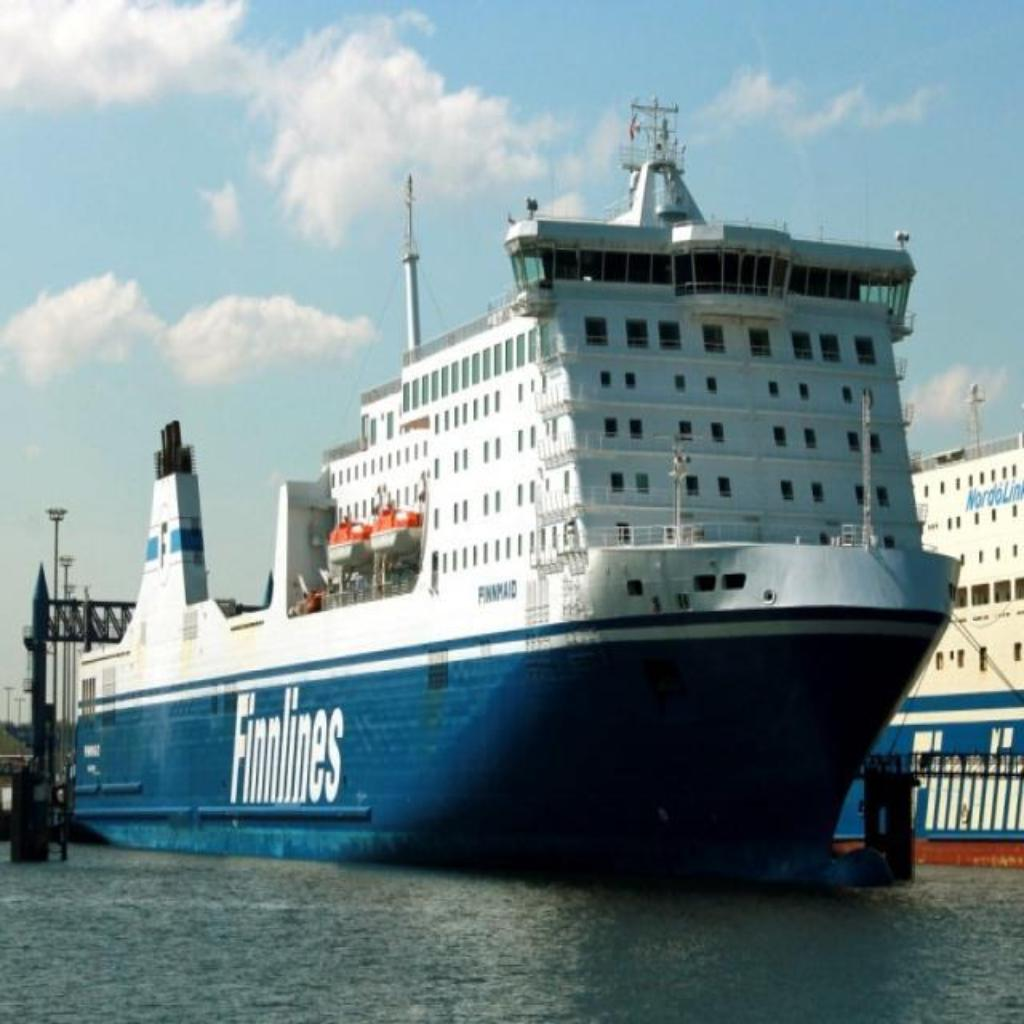PassengerShip: (68, 74, 966, 906)
